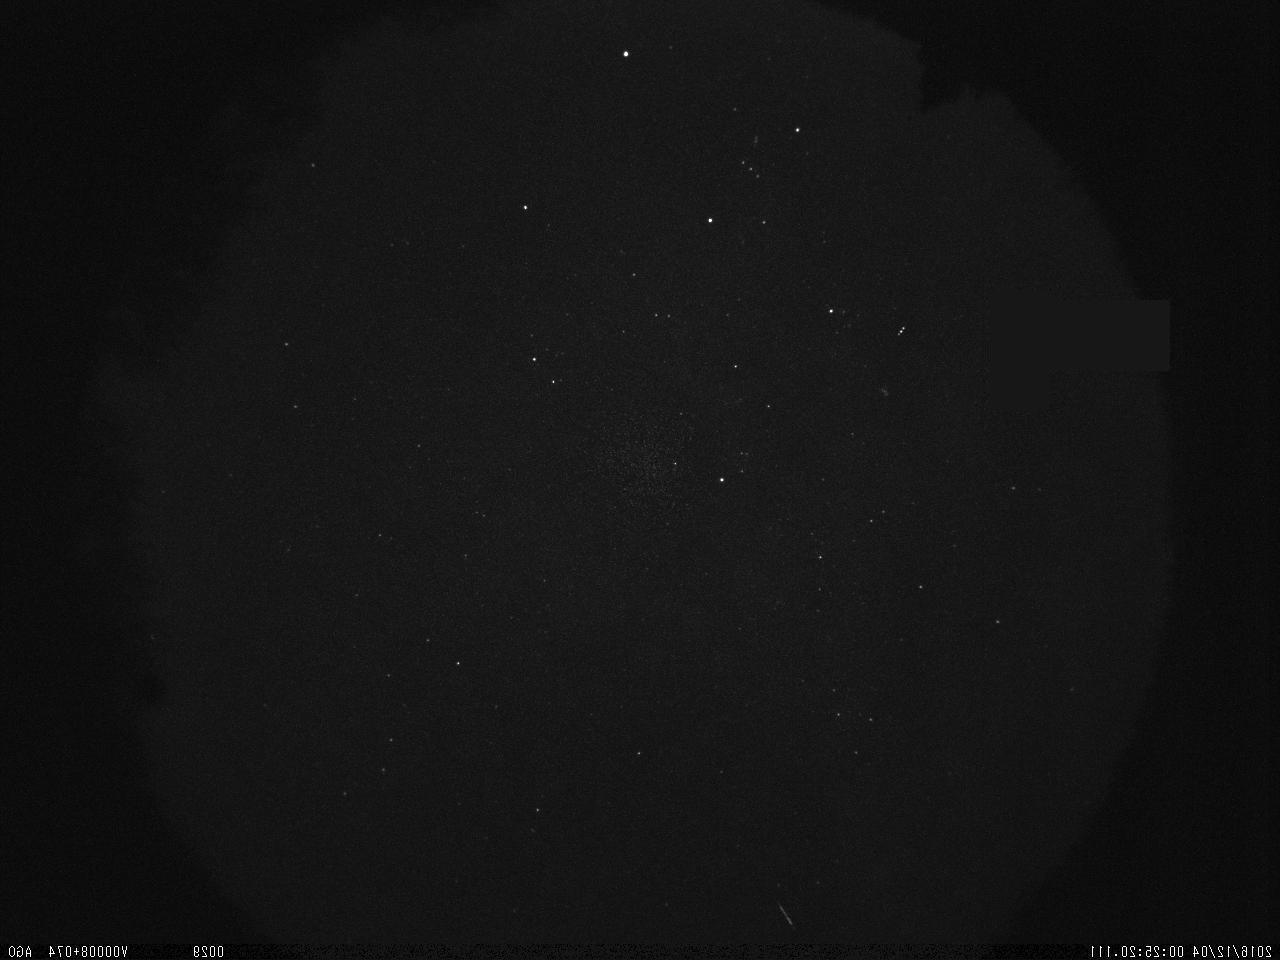meteor: (770, 892, 799, 936)
